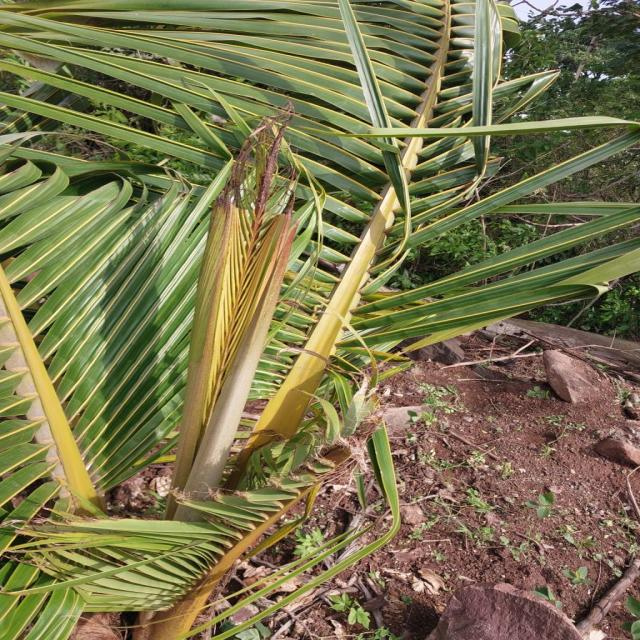bud rot: (173, 112, 297, 494)
